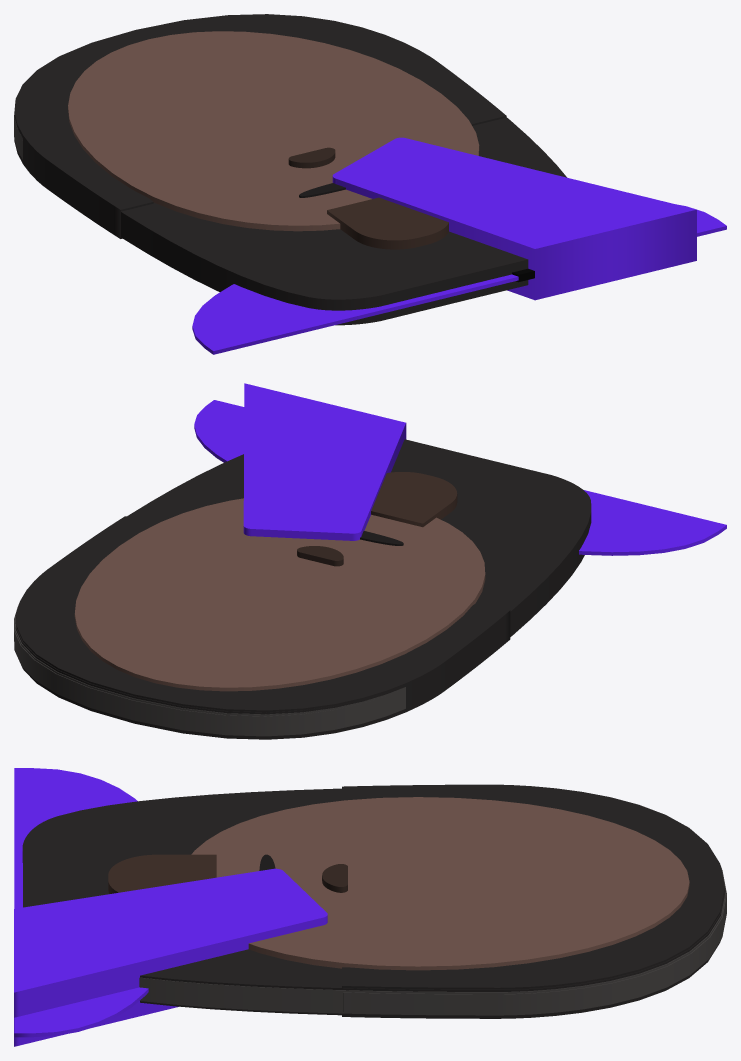
Rendered from emoji_u1f926_1f3ff_200d_2640.glb.
3 renders of one model, top to bottom at view 1: azimuth 30°, elevation 25°; view 2: azimuth 150°, elevation 25°; view 3: azimuth 270°, elevation 25°, orthographic. The views are drawn at different scales.
Parts seen in each view (by area): view 1: emoji_u1f926_1f3ff_200d_2640; view 2: emoji_u1f926_1f3ff_200d_2640; view 3: emoji_u1f926_1f3ff_200d_2640.
Boxes of the visible parts, x1=… form: emoji_u1f926_1f3ff_200d_2640: x1=14, y1=14, x2=726, y2=354; emoji_u1f926_1f3ff_200d_2640: x1=14, y1=383, x2=726, y2=739; emoji_u1f926_1f3ff_200d_2640: x1=14, y1=768, x2=726, y2=1046.
Bounding box in the file's own units: 0.0294 × 0.0028 × 0.0333.
